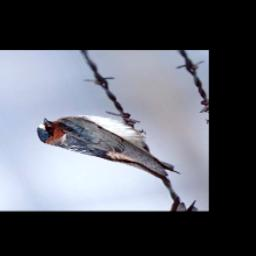Swallow: (30, 103, 188, 199)
